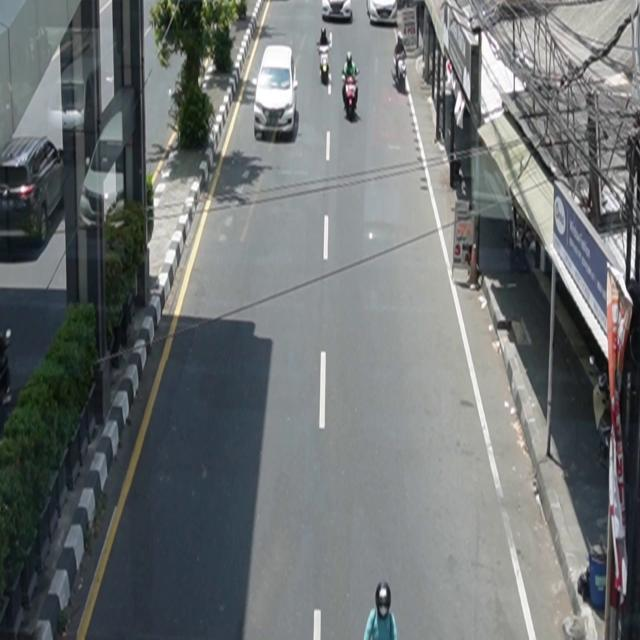car: (254, 45, 299, 141), (323, 1, 354, 22)
